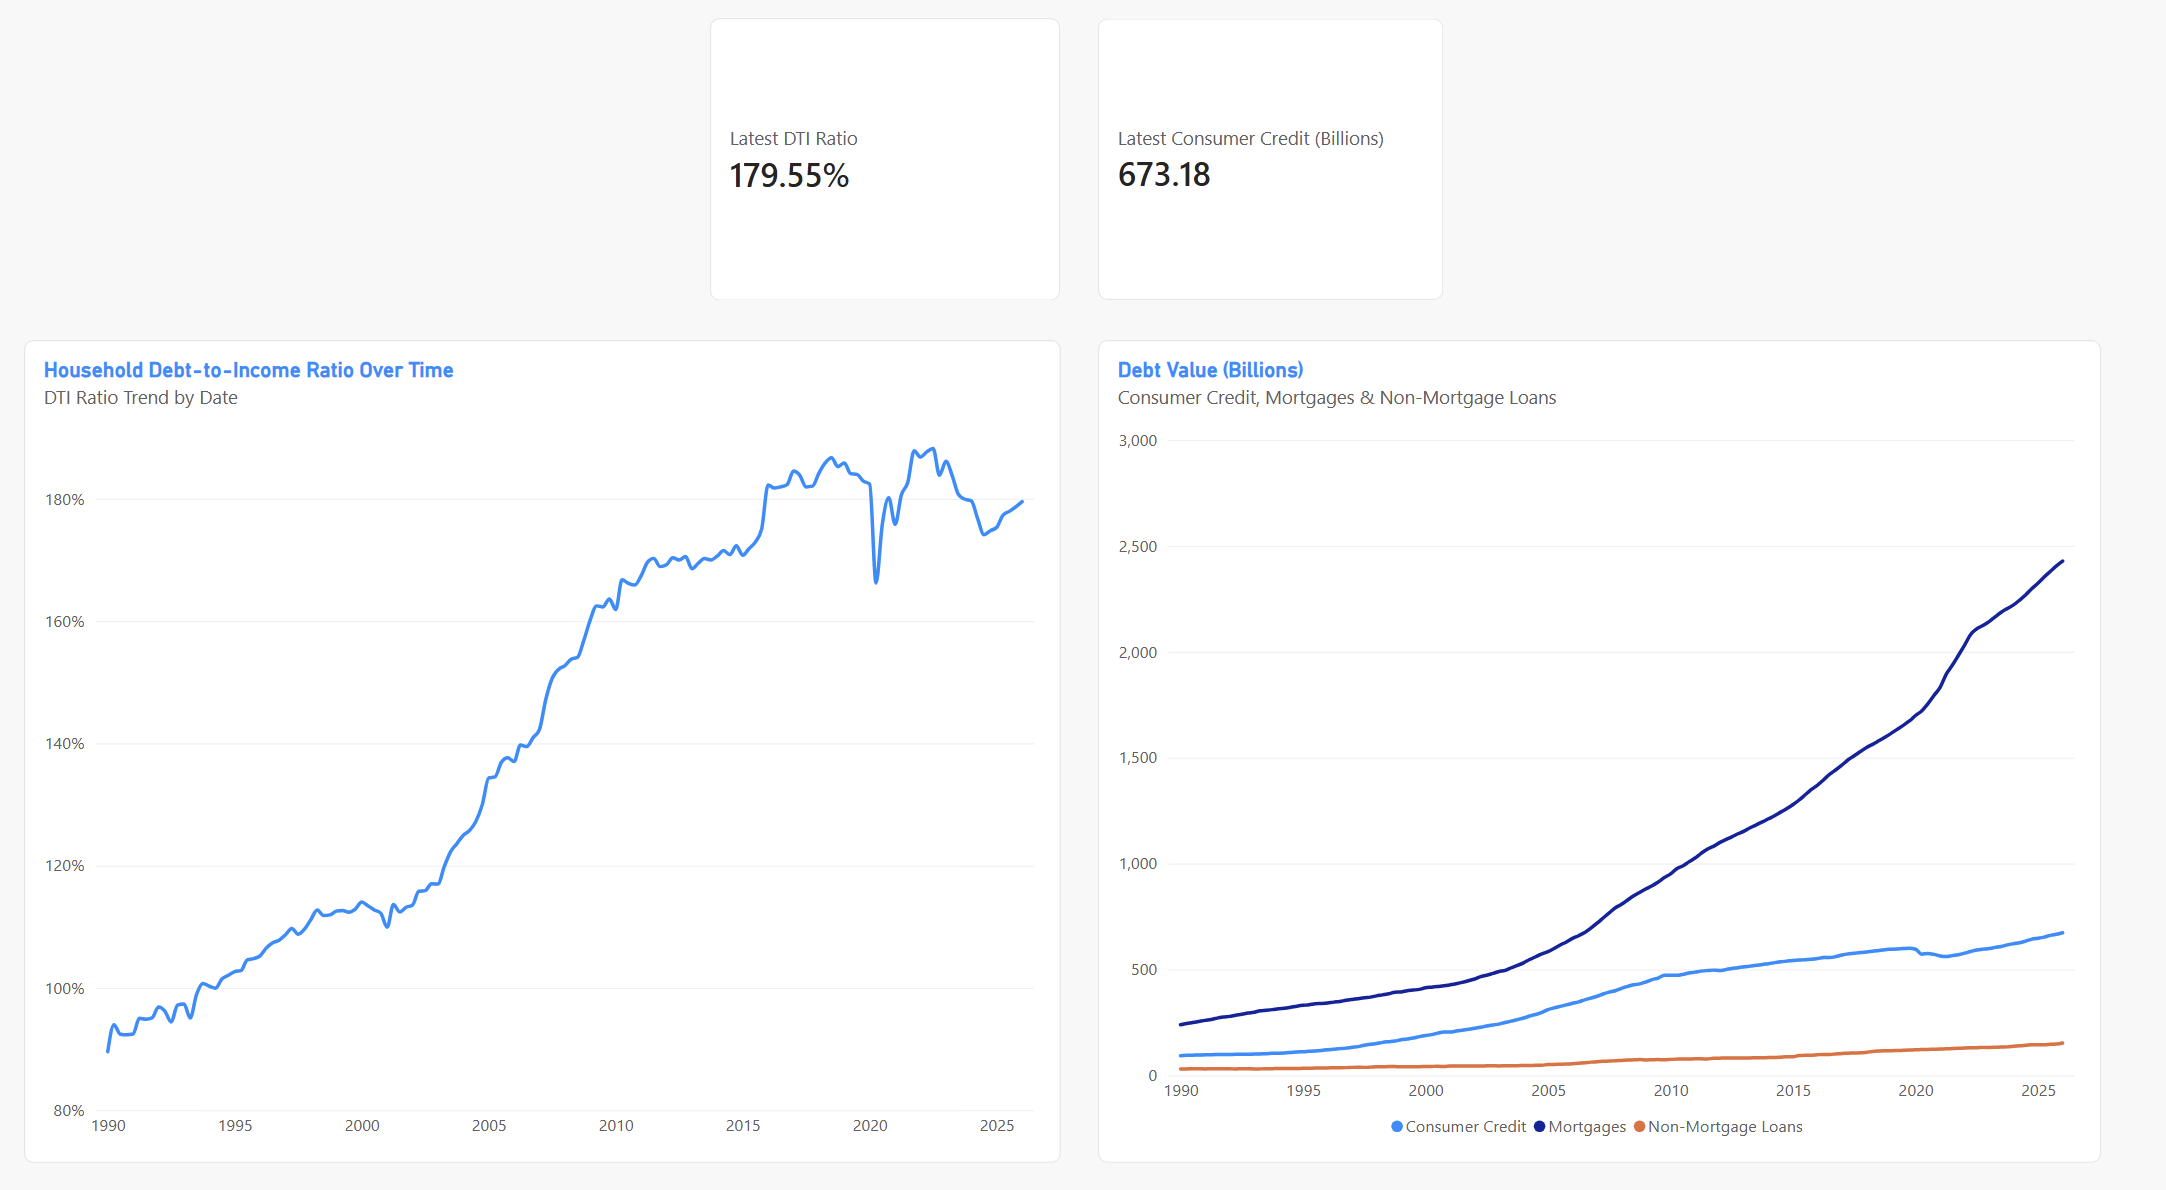

The page's visual inventory and layout, read from the dashboard file:
{"tool":"powerbi","page":{"name":"Overview","canvas":[1920,1080],"ordinal":0},"visuals":[{"type":"cardVisual","fields":{"Data":["38100238.Latest DTI Ratio"]},"box":[625.2,35.5,301.5,243.9],"z":0},{"type":"cardVisual","title":" ","fields":{"Data":["38100238.Latest Consumer Credit"]},"box":[960,0,297.1,279.4],"z":1000},{"type":"lineChart","title":"Household Debt-to-Income Ratio Over Time","fields":{"Category":["DateTable.Date"],"Y":["38100238.DTI Ratio Trend"]},"box":[35.5,312.6,891.3,707.3],"z":2000},{"type":"lineChart","title":"Debt Value (Billions) ","fields":{"Category":["38100238.REF_DATE"],"Series":["38100238.Category Short"],"Y":["38100238.Debt Value (Billions)"]},"box":[960,312.6,862.4,707.3],"z":3000}]}

Visuals, with their boxes in screenshot pixels (x1, y1, x2, y2), scaled from the page's 1920x1080 canvas onto the 2166x1190 screenshot:
cardVisual - 38100238.Latest DTI Ratio: locate(705, 39, 1045, 308)
" " cardVisual: locate(1083, 0, 1418, 308)
"Household Debt-to-Income Ratio Over Time" lineChart: locate(40, 344, 1046, 1124)
"Debt Value (Billions) " lineChart: locate(1083, 344, 2056, 1124)
